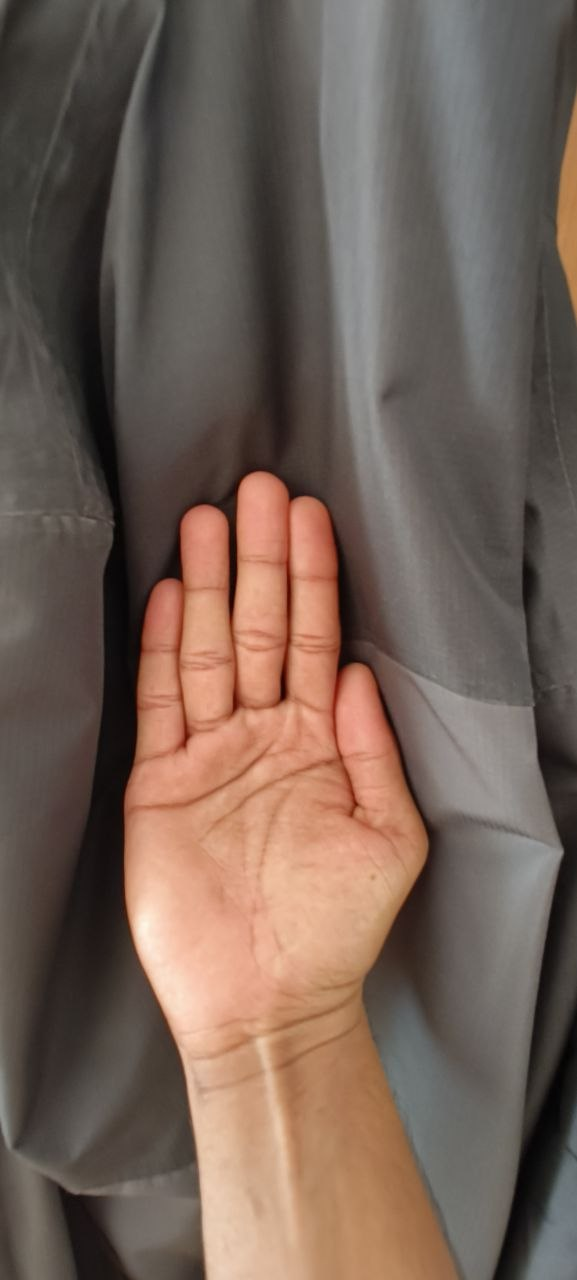Palm: (74, 439, 478, 1089)
